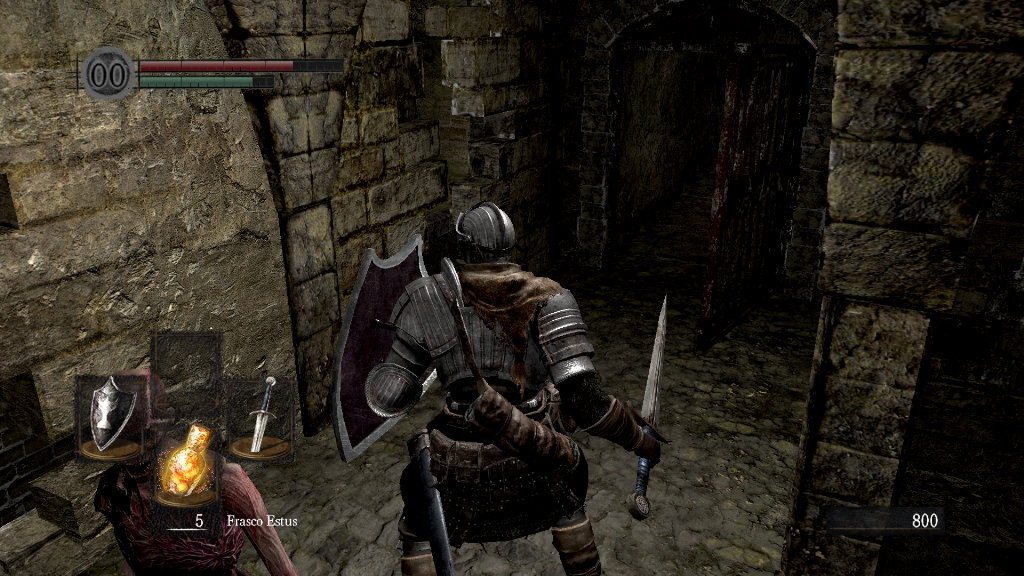health: (138, 58, 343, 71)
humanity: (80, 45, 136, 102)
player: (331, 200, 668, 576)
souls: (825, 506, 945, 536)
stamina: (138, 74, 274, 88)
